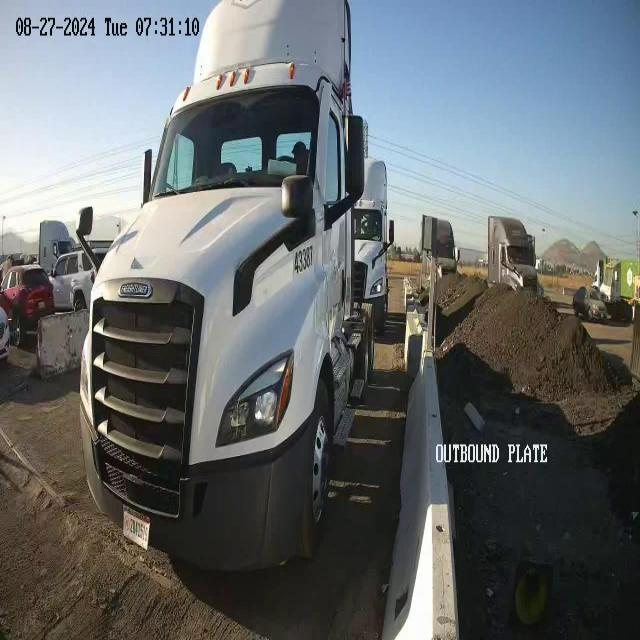TRUCK_OUT: (77, 1, 390, 576)
